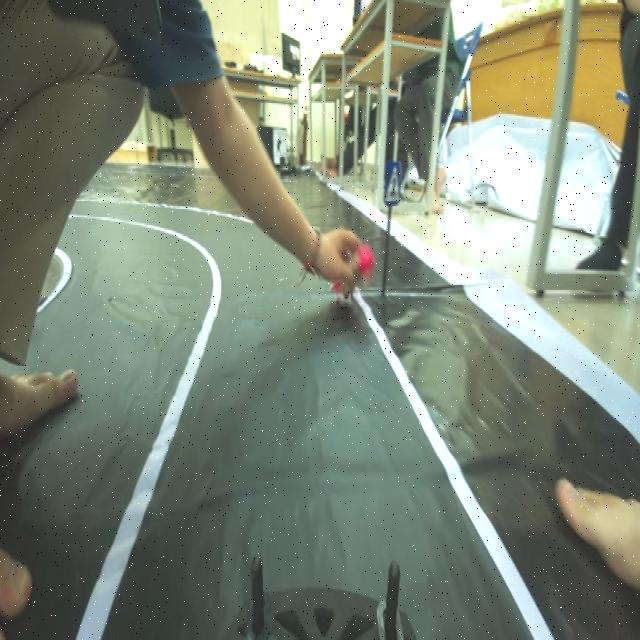crosswalk: (378, 154, 411, 212)
